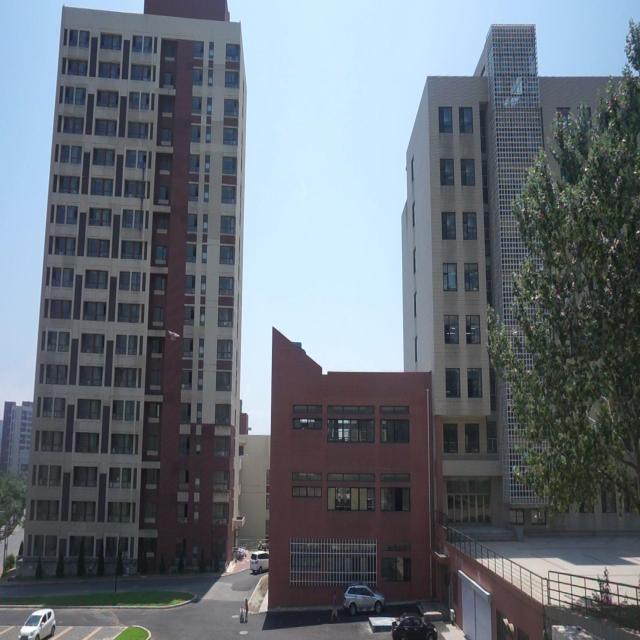drone: (165, 323, 181, 343)
